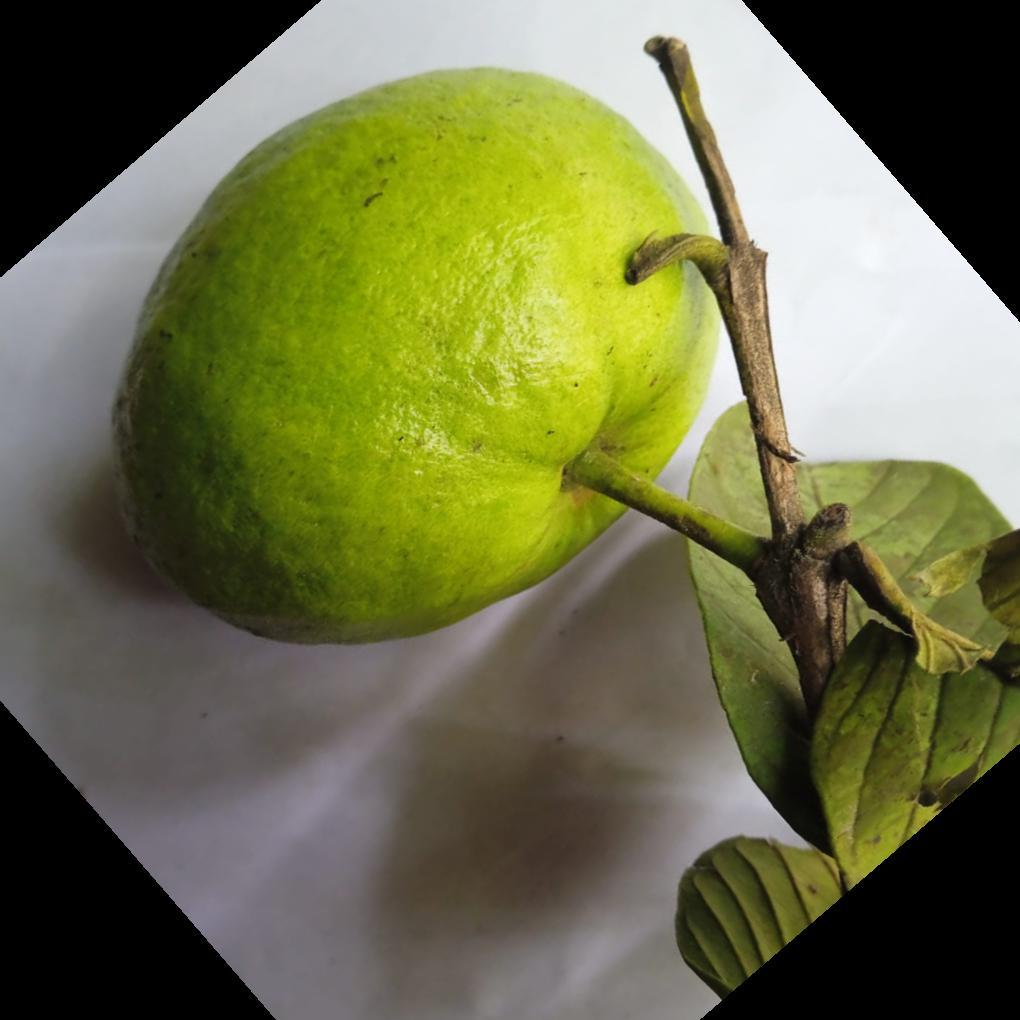FreshGuava: (109, 68, 834, 837)
